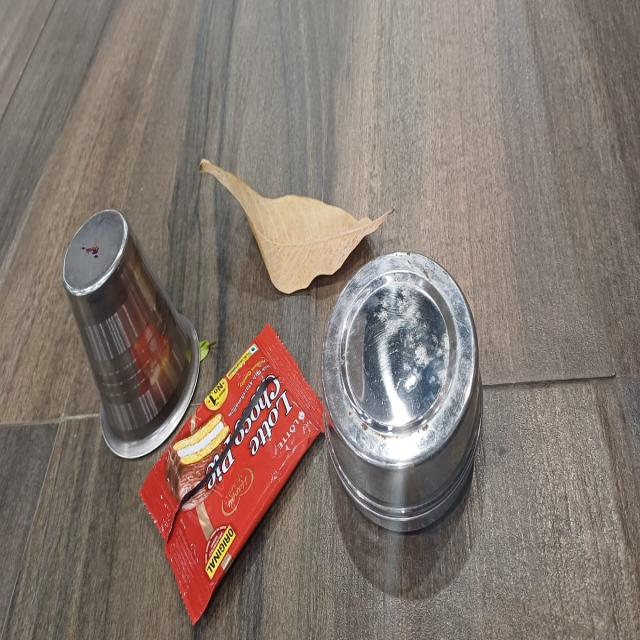Leaf-Bio: (202, 152, 395, 296)
Plastic-NonBio: (140, 326, 328, 640)
Steel-NonBio: (320, 240, 478, 546), (63, 205, 204, 460)
